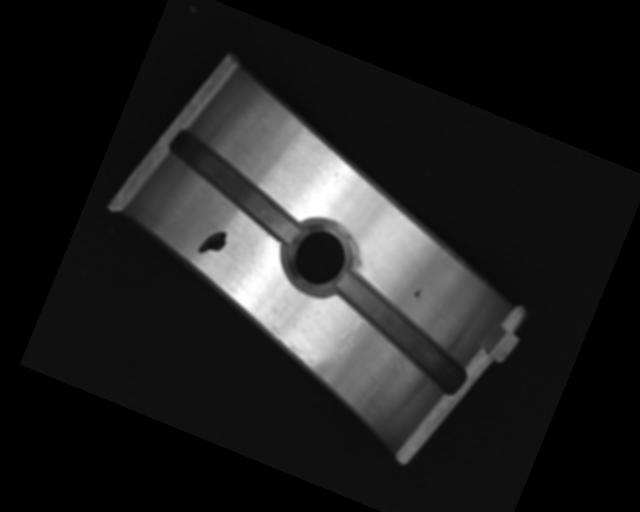blot: (196, 224, 230, 261)
bruise: (412, 285, 424, 299)
gap: (316, 268, 484, 397), (154, 126, 317, 242)
hole: (279, 211, 363, 301)
nick: (331, 313, 364, 359)
